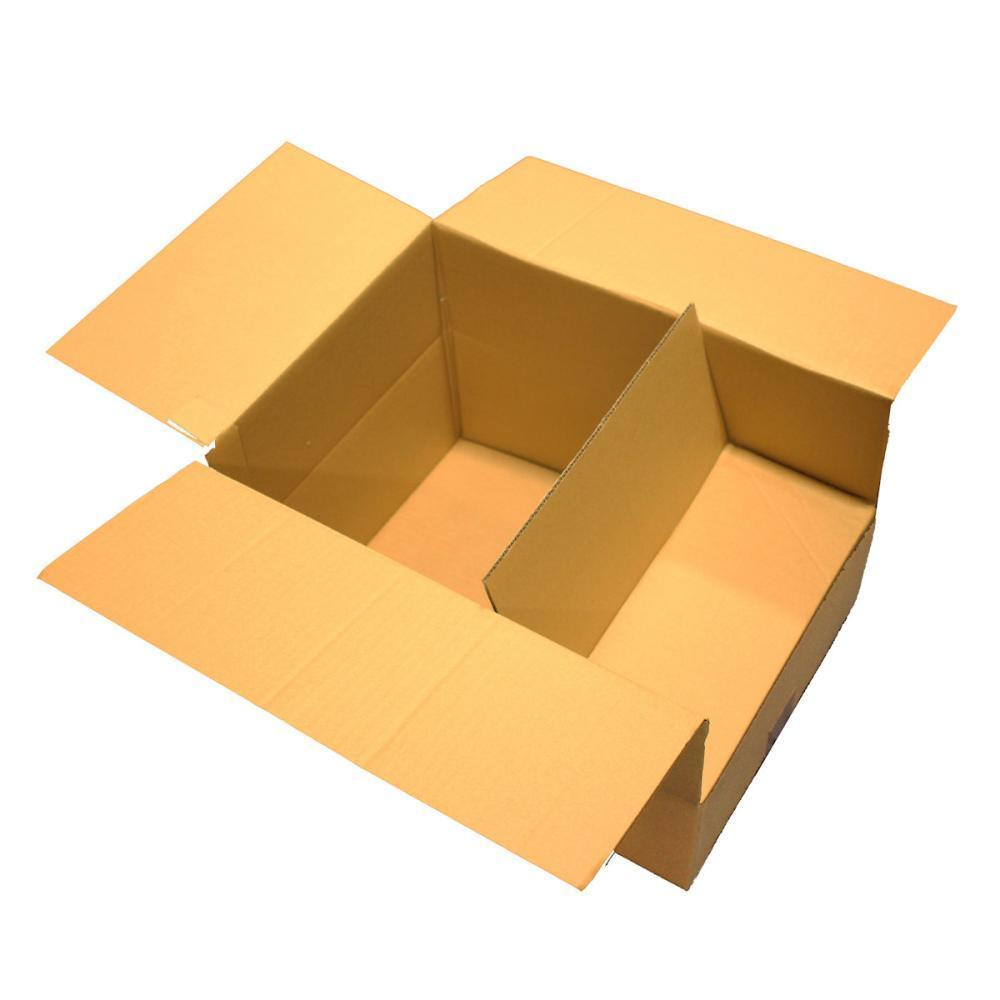box: (54, 132, 945, 923)
